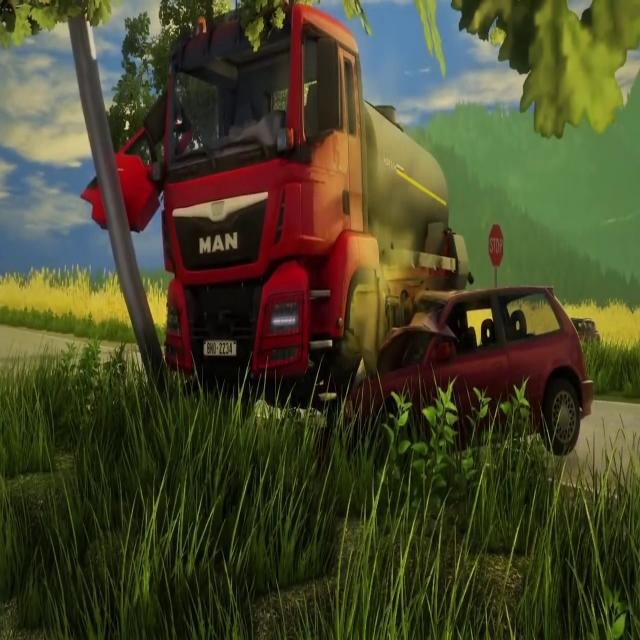accident: (272, 259, 598, 462)
